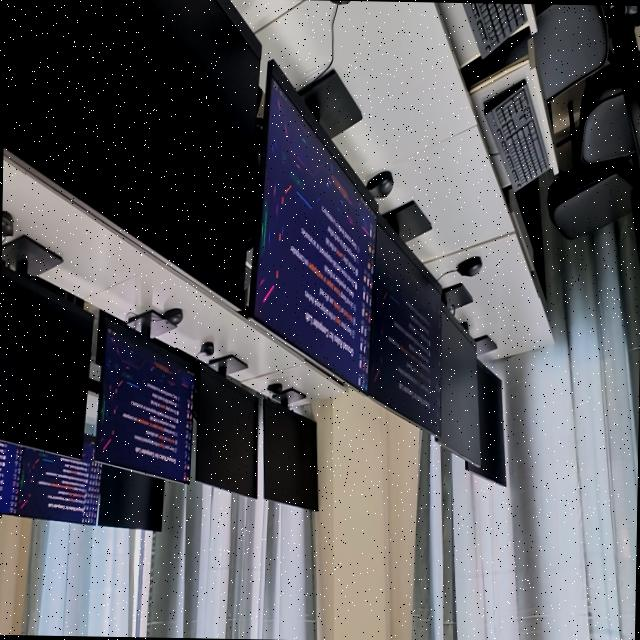Chair: (533, 4, 640, 174), (547, 103, 640, 264), (578, 62, 636, 163), (247, 118, 263, 251), (616, 5, 640, 26)
Keyboard: (484, 80, 549, 191), (463, 2, 528, 58)
Monitor: (3, 0, 260, 308), (249, 60, 378, 393), (0, 236, 93, 458), (94, 312, 195, 483), (367, 201, 440, 436), (196, 355, 258, 497), (16, 435, 102, 525), (438, 284, 480, 466), (465, 336, 506, 486), (264, 397, 318, 510), (98, 465, 164, 531), (0, 442, 21, 514), (0, 513, 1, 518)
Mouse: (366, 171, 393, 199), (457, 256, 482, 276), (163, 308, 183, 326), (1, 211, 13, 237), (198, 342, 213, 356), (266, 383, 282, 396), (330, 0, 351, 5)
